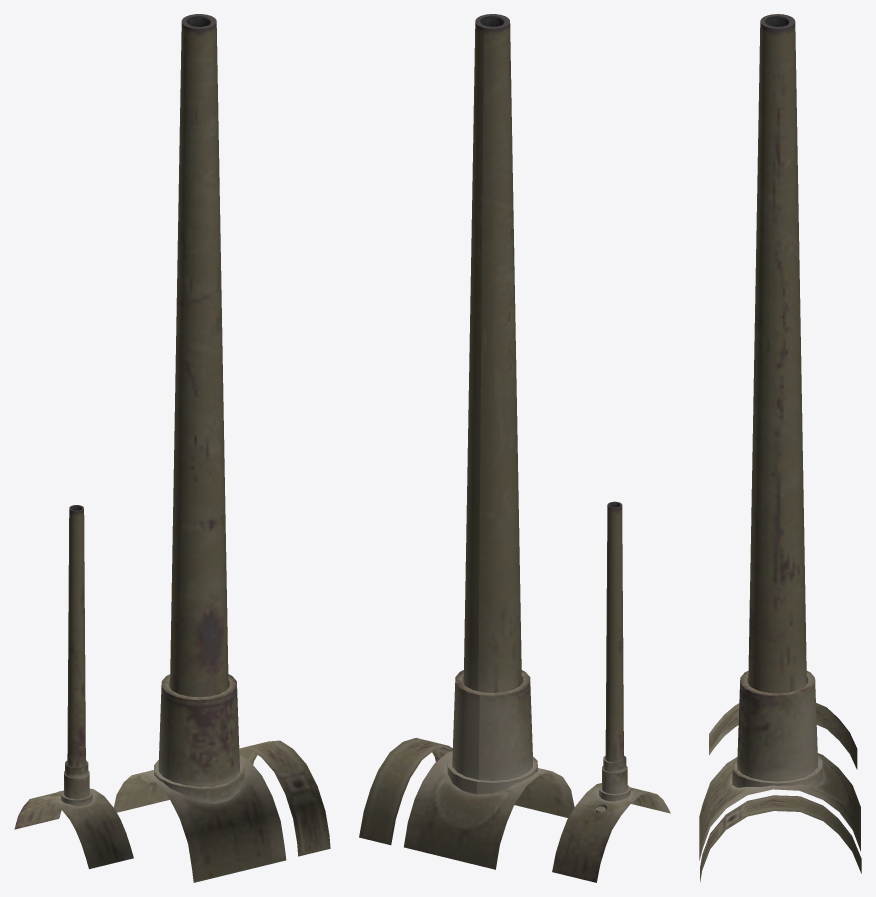
File: Gun_02.glb
The picture shows the model from 3 angles, left to right: view 1: azimuth 30°, elevation 25°; view 2: azimuth 150°, elevation 25°; view 3: azimuth 270°, elevation 25°; orthographic projection.
Parts seen in each view (by area): view 1: set_0_group_0; view 2: set_0_group_0; view 3: set_0_group_0.
Boxes of the visible parts, left/top/right/bottom form: set_0_group_0: left=14, top=14, right=330, bottom=882; set_0_group_0: left=359, top=14, right=670, bottom=882; set_0_group_0: left=699, top=14, right=861, bottom=882.
Bounding box in the file's own units: 0.8885 × 2.94 × 0.5299.
Materials: 1 (1 with a texture image).
